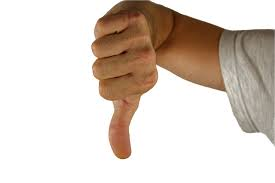ThumbsDown: (91, 5, 158, 159)
